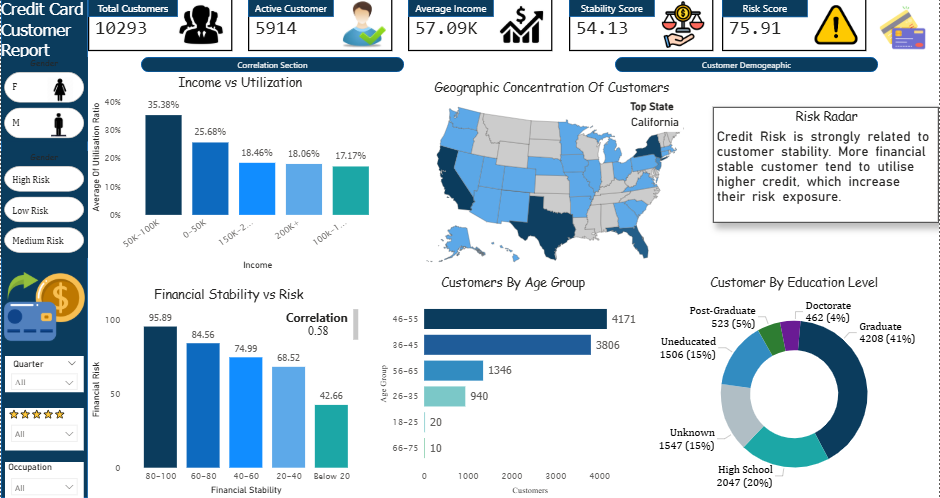

This screenshot's page, from the dashboard's own definition file:
{"tool":"powerbi","page":{"name":"Customer Dashboard","canvas":[1500,800],"ordinal":0},"visuals":[{"type":"shape","box":[0,0,138.7,800],"z":0},{"type":"shape","box":[224.2,95.2,421,24.2],"z":1000},{"type":"clusteredColumnChart","title":"Financial Stability vs Risk","fields":{"Category":["Financial_Stability.Stability_bins"],"Y":["Avg(Financial_Risk.Risk_Score)"]},"box":[138.7,459.7,450,340.3],"z":2000},{"type":"lineStackedColumnComboChart","title":"Income vs Utilization","fields":{"Category":["customer.Income_band"],"Y":["Avg(CreditCard.Avg_Utilization_Ratio)"]},"box":[139.2,120,486.4,320],"z":3000},{"type":"shape","box":[982.3,95.2,421,24.2],"z":4000},{"type":"clusteredBarChart","title":"Customers By Age Group","fields":{"Category":["customer.Age_Grp"],"Y":["CreditCard.Total_customers"]},"box":[600,440.3,438.7,359.7],"z":5000},{"type":"shapeMap","title":"Geographic Concentration Of Customers","fields":{"Category":["50 States.State"],"Value":["CreditCard.Total_customers"]},"box":[645.2,127.4,472.6,312.9],"z":6000},{"type":"donutChart","title":"Customer By Education Level","fields":{"Category":["customer.Education_Level"],"Y":["CreditCard.Total_customers"]},"box":[1024,440,476.8,360],"z":7000},{"type":"textbox","box":[1117.7,127.4,382.3,312.9],"z":8000},{"type":"advancedSlicerVisual","title":"Gender","fields":{"Values":["customer.Gender"]},"box":[0,95.2,138.7,135.5],"z":9000},{"type":"advancedSlicerVisual","title":"Gender","fields":{"Values":["Financial_Risk.Risk Category"]},"box":[0,245.2,138.7,171],"z":10000},{"type":"slicer","title":"⭐⭐⭐⭐⭐","fields":{"Values":["customer.Cust_Satisfaction_Score"]},"box":[6.5,656.5,125.8,67.7],"z":11000},{"type":"slicer","title":"Occupation","fields":{"Values":["customer.Customer_Job"]},"box":[6.5,741.9,125.8,58.1],"z":12000},{"type":"card","title":"Top State","fields":{"Values":["Min(customer.State)"]},"box":[922.6,390.3,87.1,50],"z":13000},{"type":"cardVisual","title":"Total Customers","fields":{"Data":["CreditCard.Total_customers"]},"box":[138.7,0,230.6,85.5],"z":14000},{"type":"cardVisual","title":"Total Customers","fields":{"Data":["CreditCard.Active_customers"]},"box":[395.2,0,230.6,85.5],"z":15000},{"type":"cardVisual","title":"Total Customers","fields":{"Data":["Avg(customer.Income)"]},"box":[651.6,0,230.6,85.5],"z":16000},{"type":"cardVisual","title":"Total Customers","fields":{"Data":["Avg(Financial_Stability.Financial_Stability_Score)"]},"box":[908.1,0,230.6,85.5],"z":17000},{"type":"cardVisual","title":"Total Customers","fields":{"Data":["Avg(Financial_Risk.Risk_Score)"]},"box":[1172.6,0,230.6,85.5],"z":18000},{"type":"image","box":[529,0,96.8,85.5],"z":19000},{"type":"image","box":[258.1,0,124.2,85.5],"z":20000},{"type":"image","box":[782.3,0,100,85.5],"z":21000},{"type":"image","box":[1308.8,6.4,92.8,72],"z":22000},{"type":"image","box":[1045.2,0,93.5,85.5],"z":23000},{"type":"shape","box":[138.7,0,143.5,30],"z":24000},{"type":"shape","box":[395.2,0,137.1,30],"z":25000},{"type":"shape","box":[651.6,0,137.1,30],"z":26000},{"type":"shape","box":[908.1,0,137.1,30],"z":27000},{"type":"shape","box":[1172.6,0,137.1,30],"z":28000},{"type":"slicer","title":"Use Chip","fields":{"Values":["CreditCard.Week_Start_Date.Variation.Date Hierarchy.Quarter"]},"box":[6.5,572.6,125.8,58.1],"z":29000},{"type":"image","box":[0,416.1,138.7,154.8],"z":30000},{"type":"image","box":[69.4,119.4,51.6,54.8],"z":31000},{"type":"image","box":[75.2,174.4,33.6,56],"z":32000}]}

Visuals, with their boxes in screenshot pixels (x1, y1, x2, y2), scaled from the page's 1500x800 canvas onto the 940x498 screenshot:
shape: [left=0, top=0, right=87, bottom=497]
shape: [left=140, top=59, right=404, bottom=74]
"Financial Stability vs Risk" clusteredColumnChart: [left=87, top=286, right=369, bottom=497]
"Income vs Utilization" lineStackedColumnComboChart: [left=87, top=75, right=392, bottom=274]
shape: [left=616, top=59, right=879, bottom=74]
"Customers By Age Group" clusteredBarChart: [left=376, top=274, right=651, bottom=497]
"Geographic Concentration Of Customers" shapeMap: [left=404, top=79, right=700, bottom=274]
"Customer By Education Level" donutChart: [left=642, top=274, right=939, bottom=497]
textbox: [left=700, top=79, right=939, bottom=274]
"Gender" advancedSlicerVisual: [left=0, top=59, right=87, bottom=144]
"Gender" advancedSlicerVisual: [left=0, top=153, right=87, bottom=259]
"⭐⭐⭐⭐⭐" slicer: [left=4, top=409, right=83, bottom=451]
"Occupation" slicer: [left=4, top=462, right=83, bottom=497]
"Top State" card: [left=578, top=243, right=633, bottom=274]
"Total Customers" cardVisual: [left=87, top=0, right=231, bottom=53]
"Total Customers" cardVisual: [left=248, top=0, right=392, bottom=53]
"Total Customers" cardVisual: [left=408, top=0, right=553, bottom=53]
"Total Customers" cardVisual: [left=569, top=0, right=714, bottom=53]
"Total Customers" cardVisual: [left=735, top=0, right=879, bottom=53]
image: [left=332, top=0, right=392, bottom=53]
image: [left=162, top=0, right=240, bottom=53]
image: [left=490, top=0, right=553, bottom=53]
image: [left=820, top=4, right=878, bottom=49]
image: [left=655, top=0, right=714, bottom=53]
shape: [left=87, top=0, right=177, bottom=19]
shape: [left=248, top=0, right=334, bottom=19]
shape: [left=408, top=0, right=494, bottom=19]
shape: [left=569, top=0, right=655, bottom=19]
shape: [left=735, top=0, right=821, bottom=19]
"Use Chip" slicer: [left=4, top=356, right=83, bottom=393]
image: [left=0, top=259, right=87, bottom=355]
image: [left=43, top=74, right=76, bottom=108]
image: [left=47, top=109, right=68, bottom=143]
